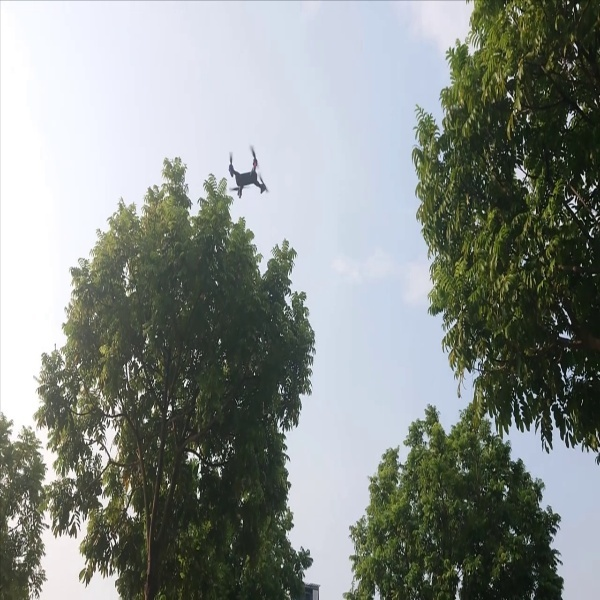drone: (222, 140, 274, 201)
